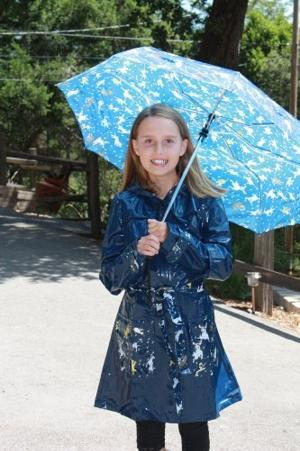person: (94, 105, 242, 451)
